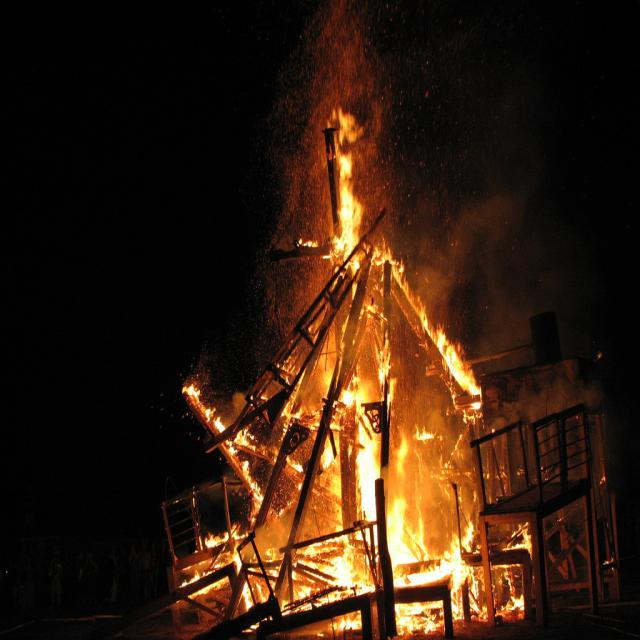Fire: (339, 372, 469, 596), (335, 113, 364, 257)
